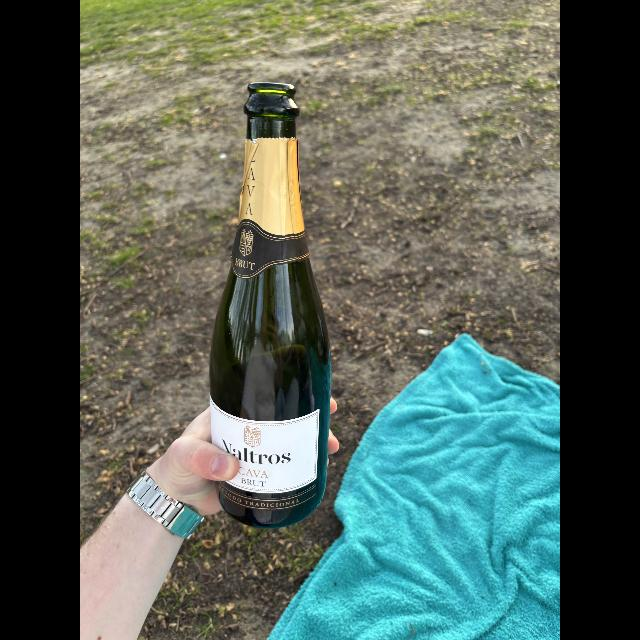Glass: (206, 78, 342, 526)
